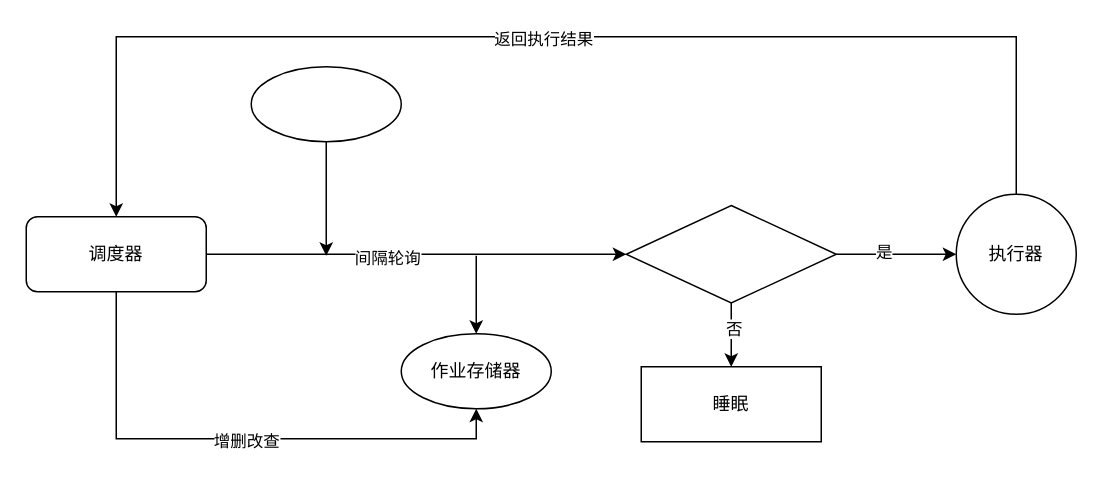
The diagram is 1103 pixels wide and 477 high, and some of its shapes have lost their labels. The centre of each missing label's shape, as x and y in pixels:
"是否满足运行条件？" belongs at point 730,253.
"触发器" belongs at point 325,103.
